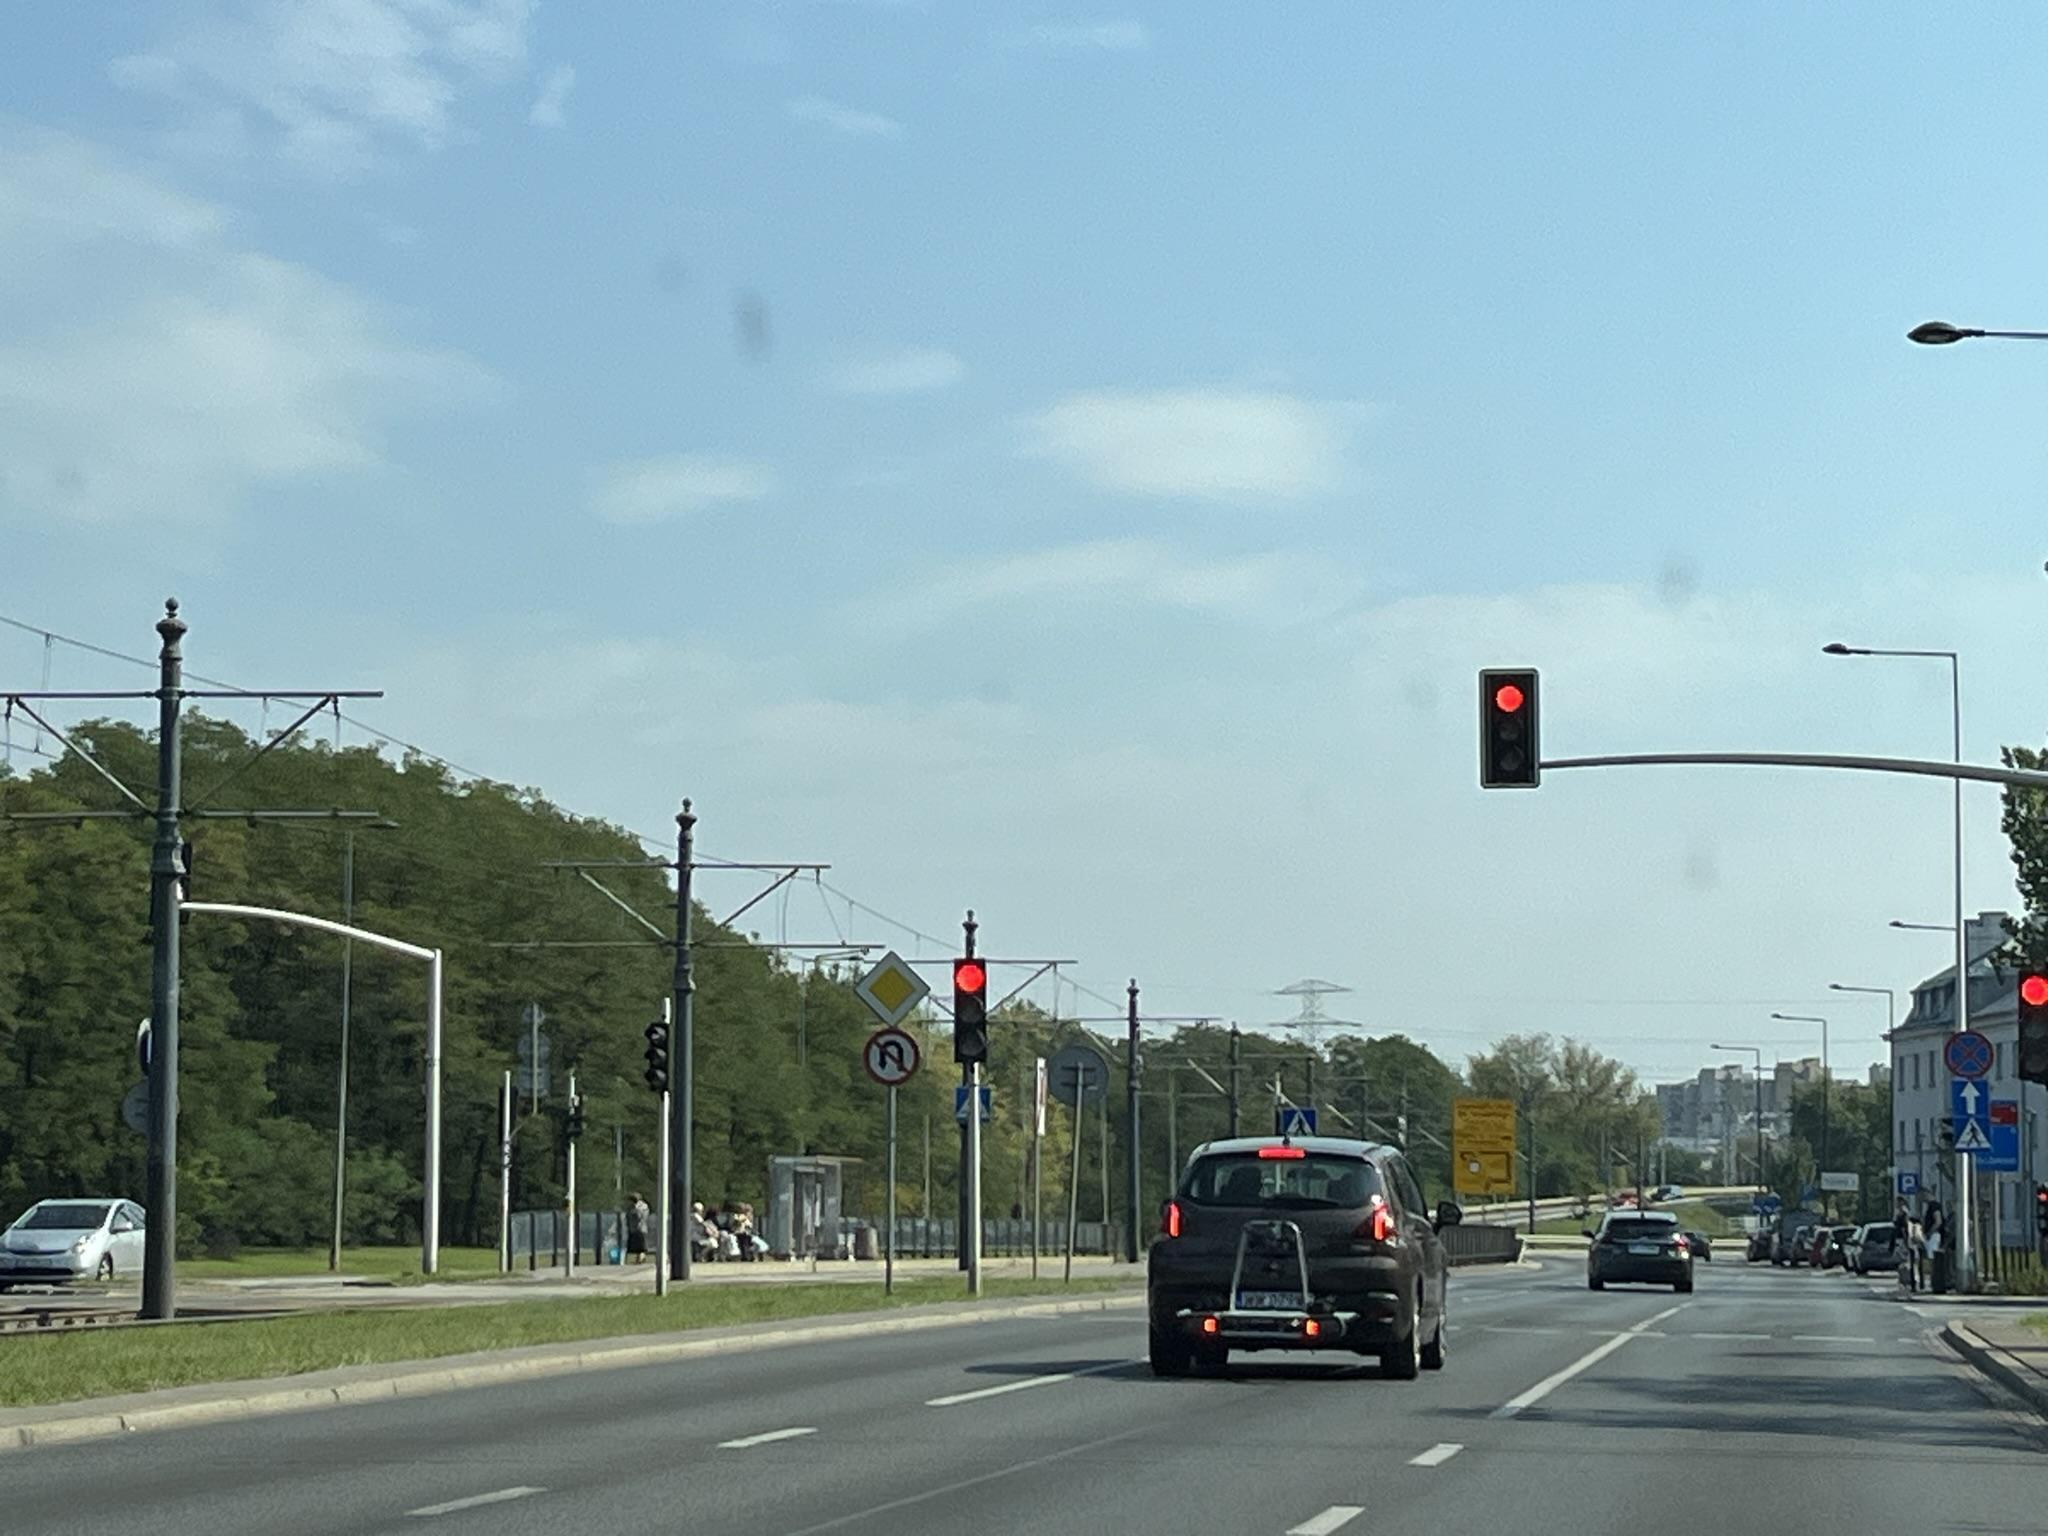information: (853, 950, 930, 1028), (1954, 1117, 1992, 1150), (1953, 1081, 1988, 1115), (1282, 1108, 1316, 1134), (955, 1087, 972, 1121), (1900, 1173, 1919, 1194), (980, 1087, 992, 1121)
other: (1453, 1099, 1516, 1196), (1821, 1173, 1859, 1191), (1753, 1197, 1784, 1215)
prohibitory: (861, 1028, 921, 1086), (1945, 1031, 1995, 1079)
